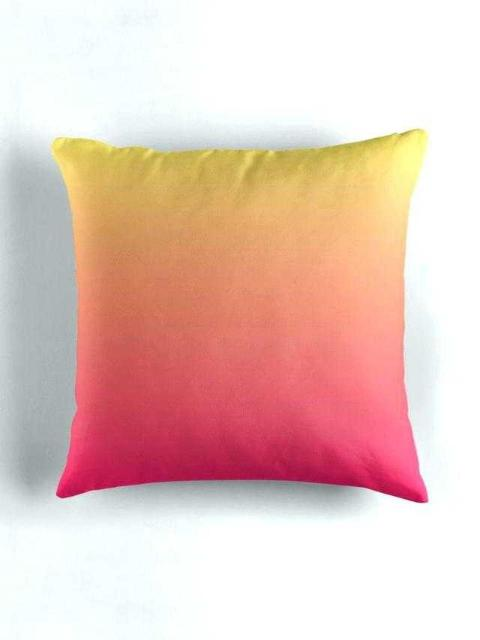pillow: (50, 128, 430, 502)
